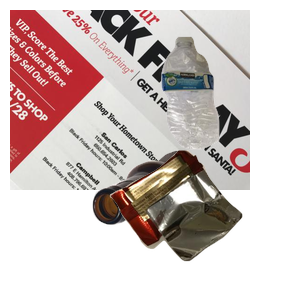glass: (90, 148, 300, 300)
paper: (10, 10, 250, 190)
plastic: (159, 34, 300, 176)
trash: (107, 148, 300, 300)
